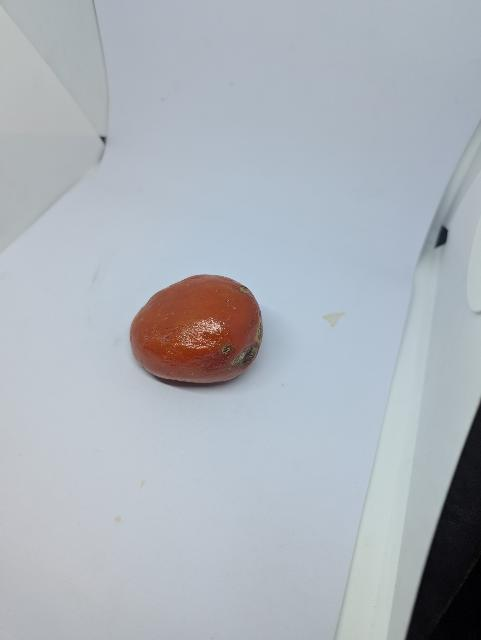defect: (128, 271, 266, 391)
